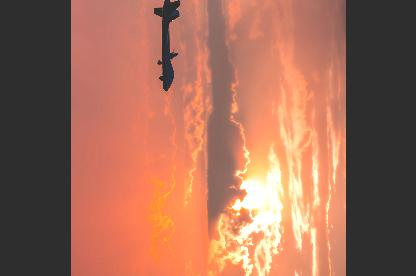MQ9: (152, 0, 180, 93)
